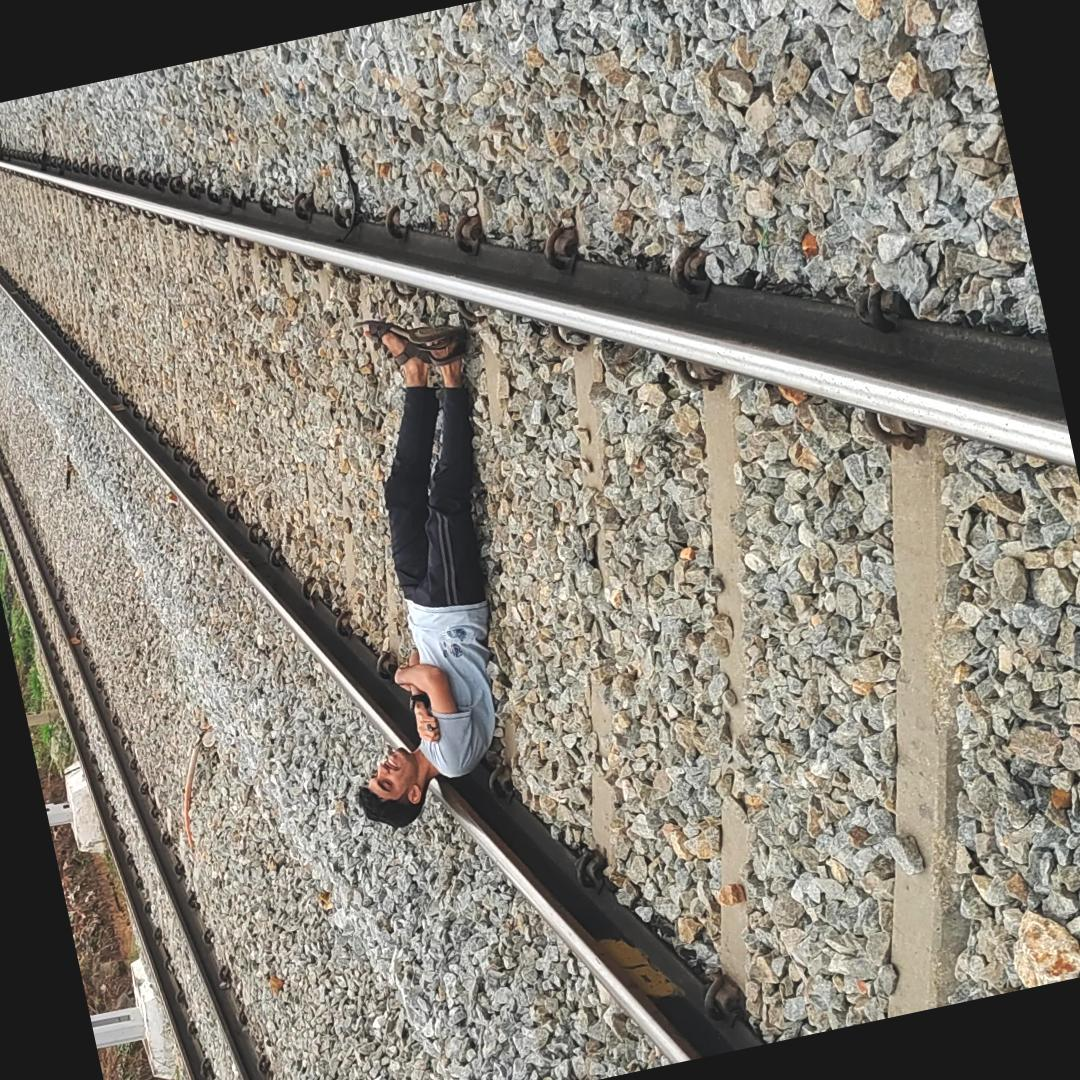sleeping: (306, 271, 544, 875)
track: (0, 134, 1080, 1075)
